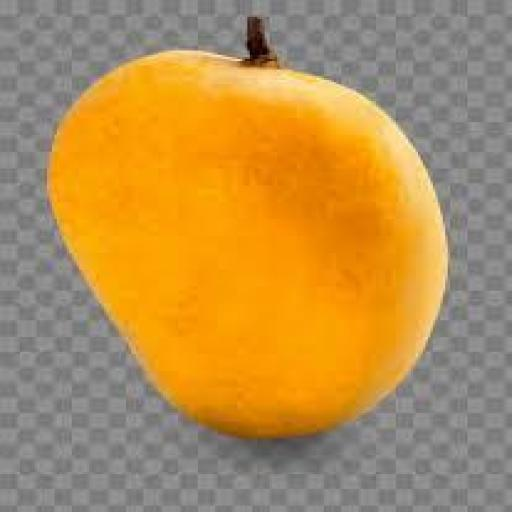mango: (50, 51, 447, 438)
